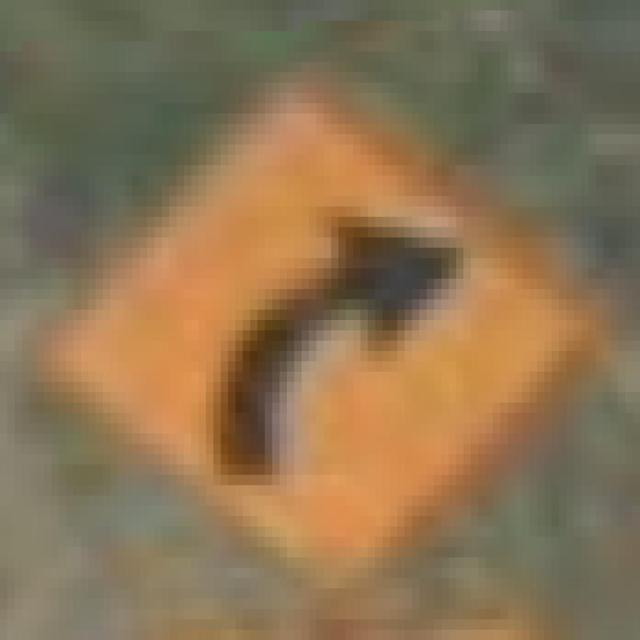Tikungan Ke Kanan: (22, 51, 589, 598)
